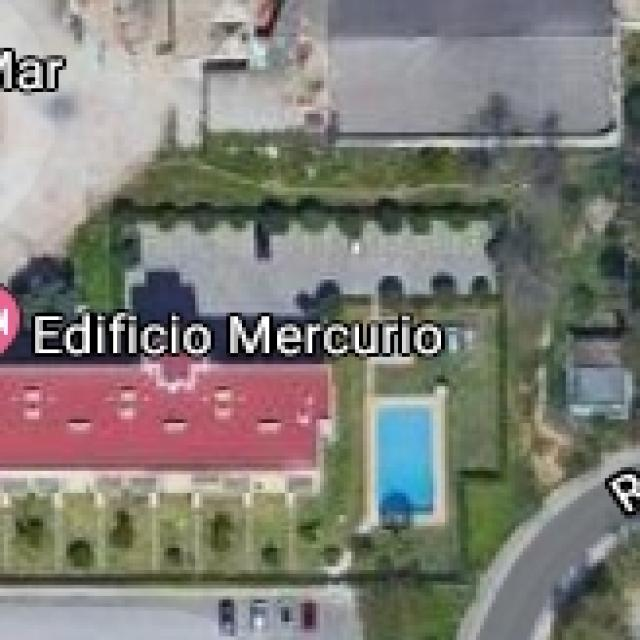pool: (355, 388, 453, 534)
